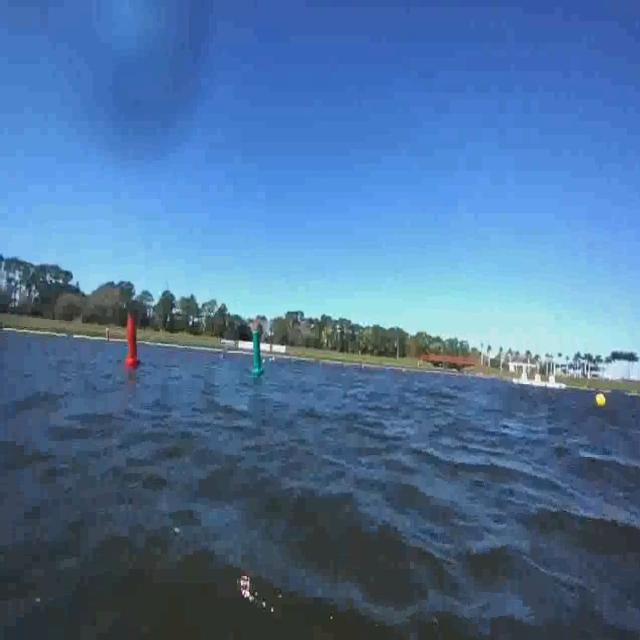green-column-buoy: (250, 330, 264, 377)
red-column-buoy: (126, 315, 142, 369)
yellow-buoy: (595, 390, 607, 409)
